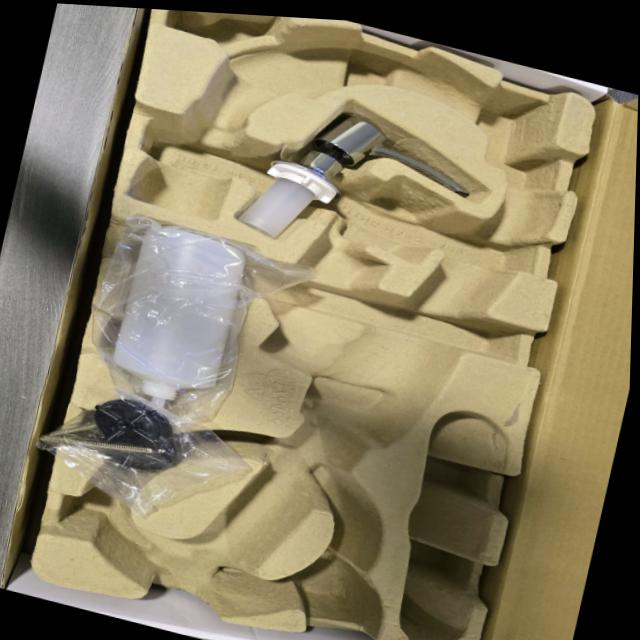1m: (128, 32, 557, 610)
2: (234, 112, 470, 239)
3: (110, 223, 237, 415)
4m: (398, 410, 507, 640)
5m: (298, 557, 367, 612)
6m: (63, 485, 156, 559)
7: (34, 388, 249, 517)
